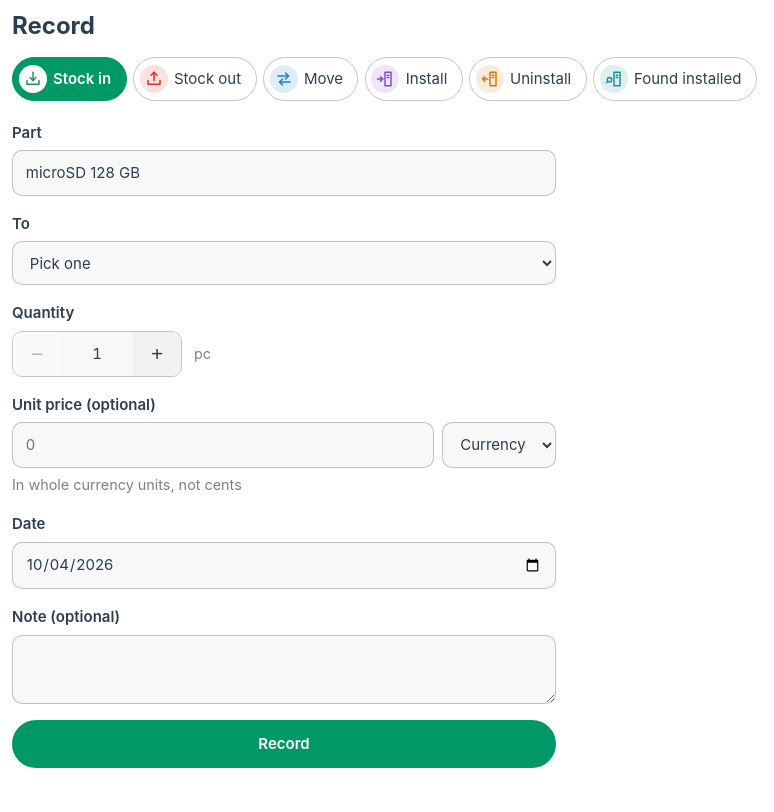
Test: Record: fields per type (spec §4.7 table) › stock_out
Click the radio button labelled "Stock out": click(195, 79) left=133, top=57, right=256, bottom=101
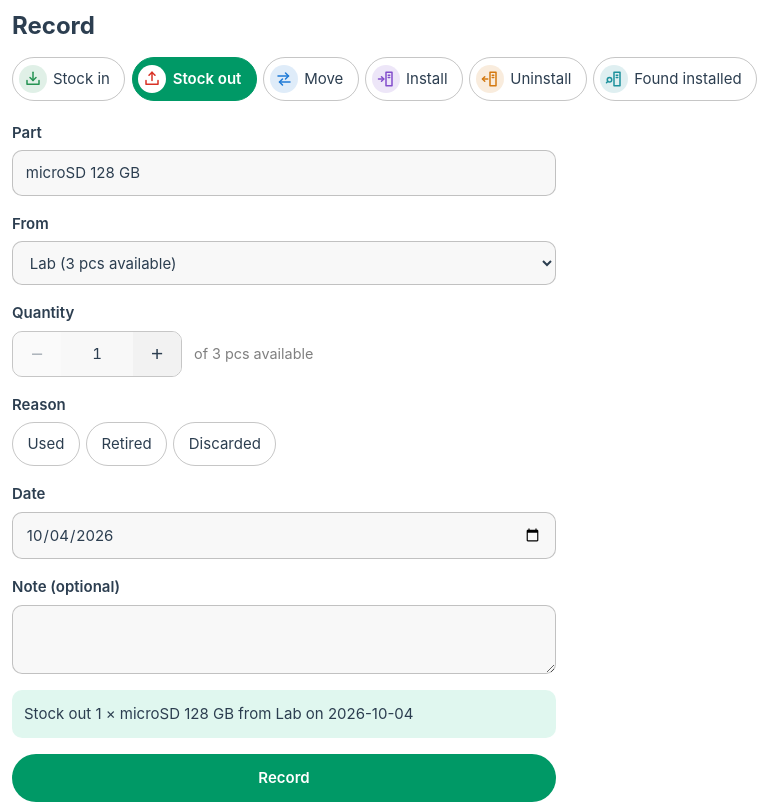
Expected: the dropdown with id "rec-from" is shown, left=12, top=241, right=556, bottom=285
Expected: the element showing "Used Retired Discarded" is shown, left=12, top=422, right=276, bottom=466
